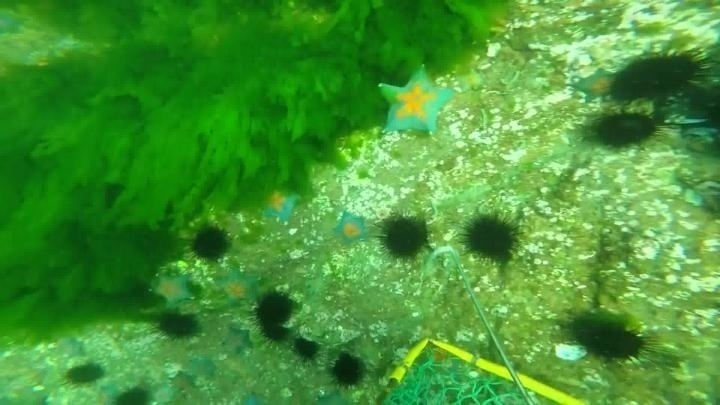echinus: (609, 48, 709, 103), (567, 310, 650, 364), (460, 211, 522, 264), (590, 108, 662, 151), (377, 213, 431, 262), (188, 222, 232, 263), (154, 309, 201, 342), (328, 351, 367, 389), (63, 359, 106, 389), (257, 289, 296, 320), (113, 383, 155, 404), (290, 335, 322, 362), (258, 319, 291, 344), (100, 181, 127, 211)
starfish: (376, 67, 456, 138), (213, 267, 263, 309), (149, 269, 196, 310), (257, 185, 303, 226), (573, 67, 621, 103), (330, 210, 372, 248), (221, 324, 254, 359), (183, 354, 220, 381), (1, 5, 29, 37), (92, 382, 123, 404)
